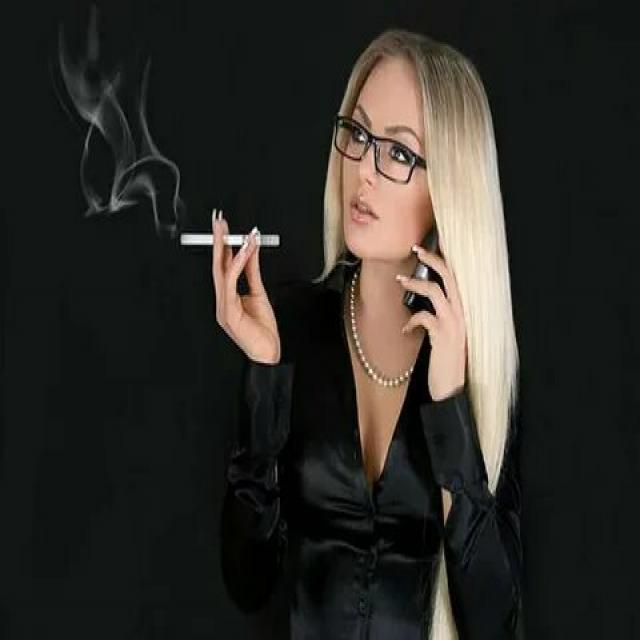smoke: (179, 227, 281, 250)
